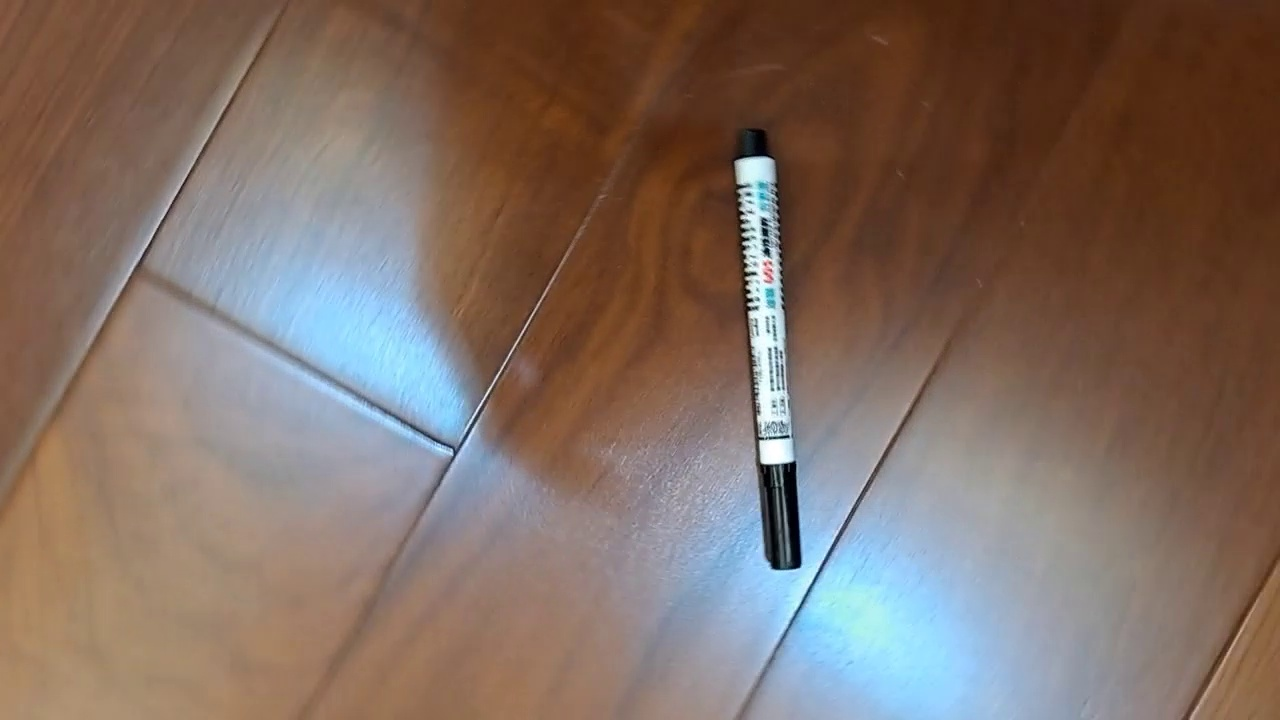pen: (731, 126, 803, 571)
